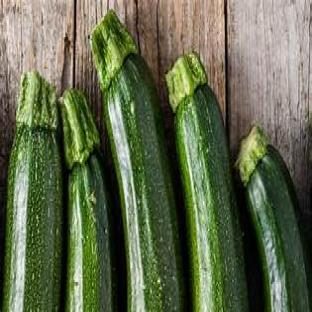Zucchini: (92, 11, 185, 311), (167, 53, 247, 311), (2, 73, 63, 311), (237, 126, 310, 311), (61, 90, 116, 311)
